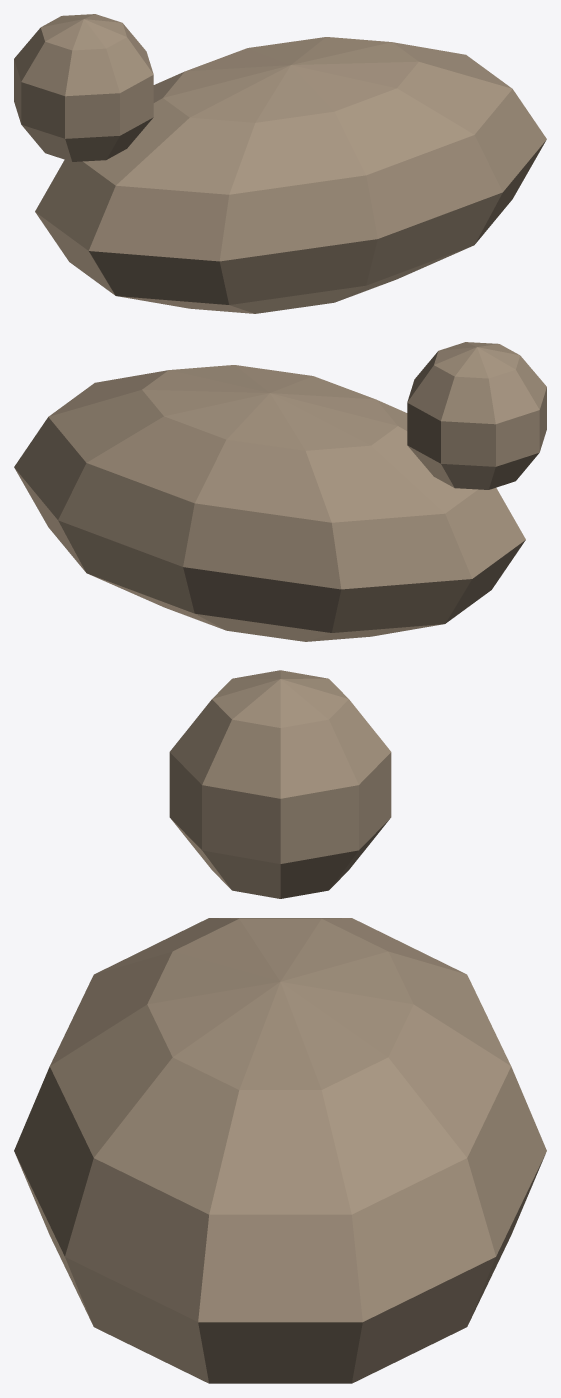
The model's file is duck.glb.
3 renders of one model, top to bottom at view 1: azimuth 30°, elevation 25°; view 2: azimuth 150°, elevation 25°; view 3: azimuth 270°, elevation 25°, orthographic. The views are drawn at different scales.
Parts seen in each view (by area): view 1: duck; view 2: duck; view 3: duck.
Part boxes in pixels (<box>): duck: <box>14,14,546,313</box>; duck: <box>14,342,546,641</box>; duck: <box>14,670,546,1383</box>.
Bounding box in the file's own units: 0.53 × 0.322 × 0.32.
